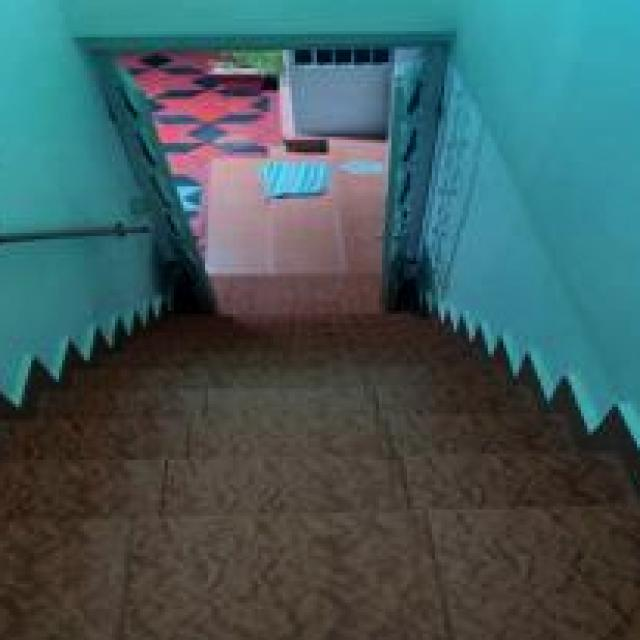downstair: (20, 362, 523, 595)
